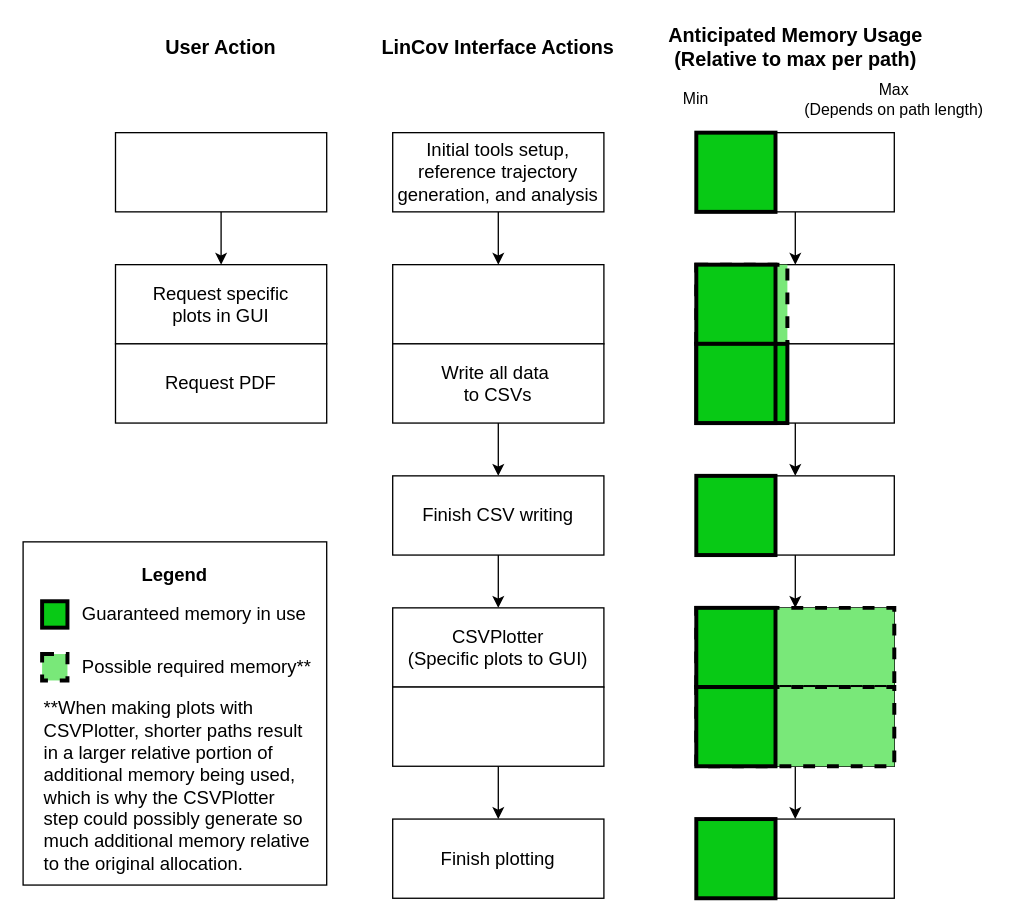
This 1010x923 diagram has some shape labels left out. The shapes that lost their labels are listed below. From the top down, each one's centre as x and y in pixels, then its label:
At (220,171): "Request LC or MC Analysis".
At (497,303): "Write requested plot data to CSVs".
At (497,726): "CSVPlotter (Save plots to PDF)".
